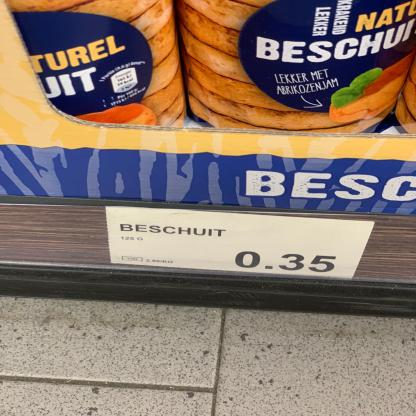prtg: (104, 206, 376, 282)
